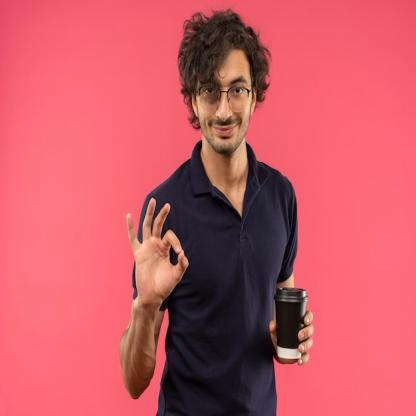ok: (124, 196, 190, 313)
